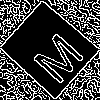M: (24, 24, 87, 86)
